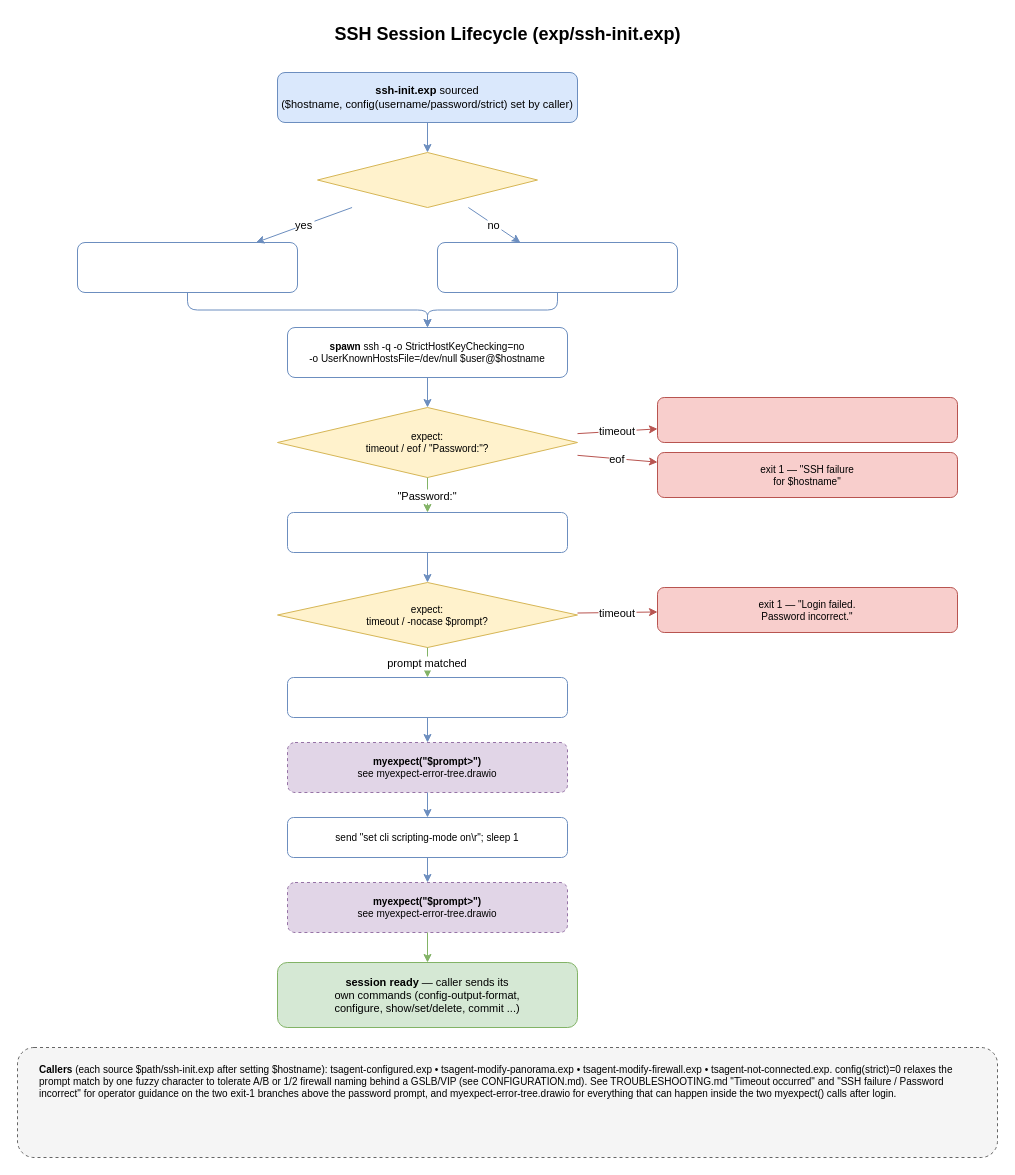
This 1015x1175 diagram has some shape labels left out. Each missing label, with the centre of its shape:
config(strict)?: (x=427, y=180)
exit 1 — "Failed to get password prompt": (x=807, y=419)
prompt = "$user@$hostname*active?": (x=187, y=267)
prompt = "$user@*" (one fuzzy char for A/B, 1/2 naming): (x=557, y=267)
send "$config(password)\r": (x=427, y=532)
send "set cli pager off\r"; sleep 1: (x=427, y=697)
